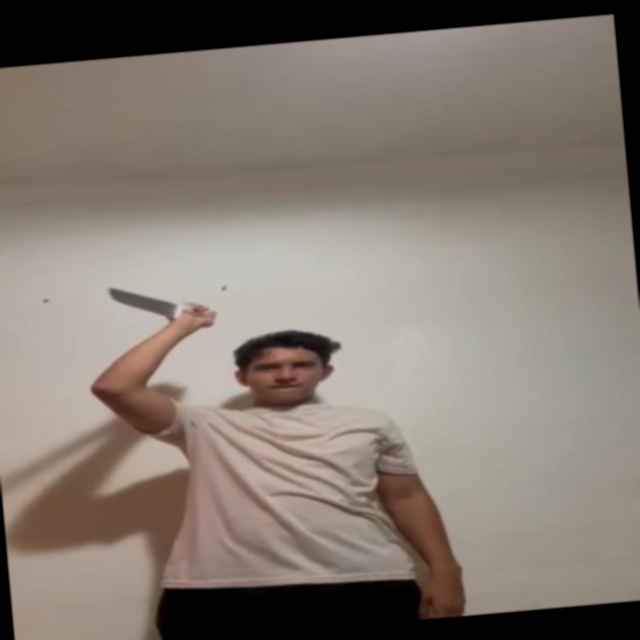Sharp-Object: (100, 281, 186, 322)
